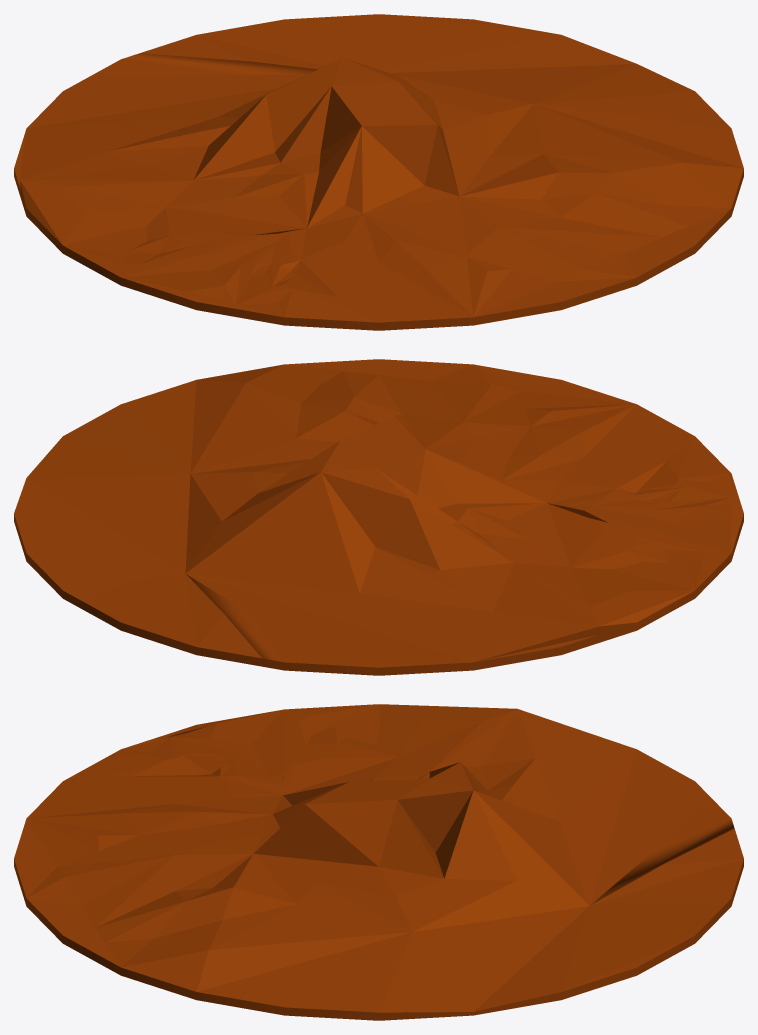
File: marsadon.dae
3 views of the same model, one above another, from view 1: azimuth 30°, elevation 25°; view 2: azimuth 150°, elevation 25°; view 3: azimuth 270°, elevation 25° (orthographic).
Visible parts, largest first — view 1: group_0; view 2: group_0; view 3: group_0.
Boxes of the visible parts, left/top/right/bottom form: group_0: left=14, top=14, right=743, bottom=330; group_0: left=14, top=359, right=743, bottom=675; group_0: left=14, top=704, right=743, bottom=1020.
Size of the model in its own units: 536 by 536 by 93.37.
